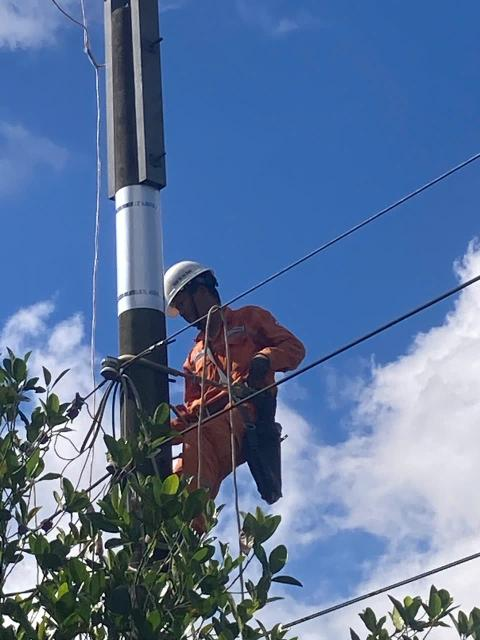gloves: (240, 349, 283, 393)
harness: (167, 372, 270, 418)
helmet: (139, 258, 238, 312)
